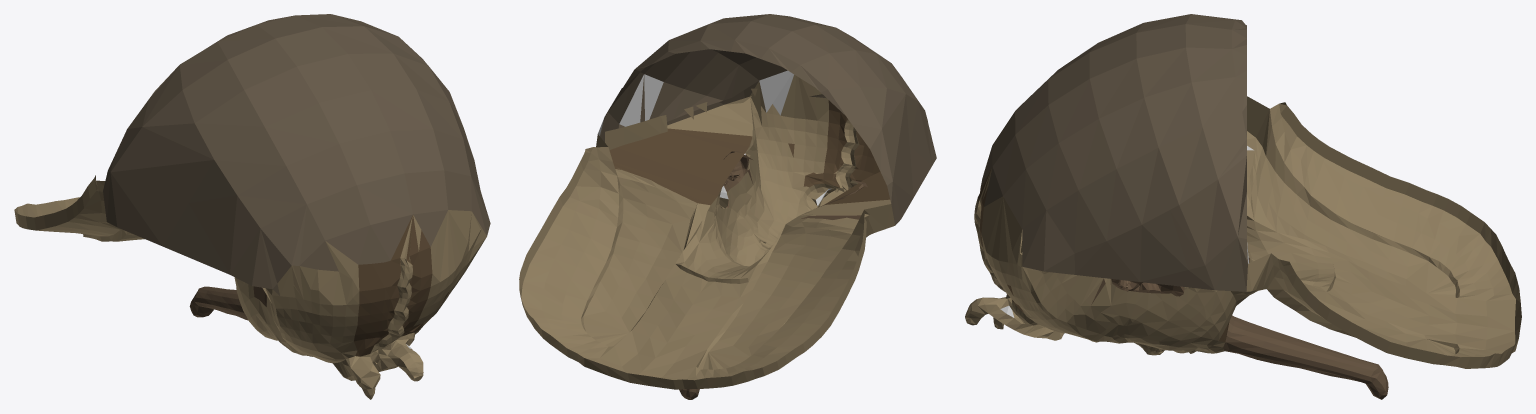
The model's file is tut.glb.
3 renders of one model, left to right at view 1: azimuth 30°, elevation 25°; view 2: azimuth 150°, elevation 25°; view 3: azimuth 270°, elevation 25°, orthographic. The views are drawn at different scales.
Visible parts, largest first — view 1: Mesh_4052, Mesh_4100, Mesh_4054, Mesh_4075, Mesh_4077, Mesh_3958, Mesh_3834, Mesh_3944, Mesh_3853, Mesh_3798, Mesh_3785, Mesh_3904 (+57 smaller); view 2: Mesh_3560, Mesh_3582, Mesh_3545, Mesh_4052, Mesh_3528, Mesh_3557, Mesh_3505, Mesh_3949, Mesh_3576, Mesh_5250, Mesh_4075, Mesh_3549 (+32 smaller); view 3: Mesh_3952, Mesh_3979, Mesh_3815, Mesh_3988, Mesh_3847, Mesh_3881, Mesh_3831, Mesh_3791, Mesh_3880, Mesh_3918, Mesh_3852, Mesh_4072 (+43 smaller).
Boxes of the visible parts, bbox=[...] form: Mesh_4052: bbox=[111, 127, 213, 172]; Mesh_4100: bbox=[111, 160, 213, 202]; Mesh_4054: bbox=[111, 172, 188, 246]; Mesh_4075: bbox=[189, 195, 237, 274]; Mesh_4077: bbox=[163, 203, 229, 274]; Mesh_3958: bbox=[265, 103, 338, 143]; Mesh_3834: bbox=[214, 127, 285, 165]; Mesh_3944: bbox=[286, 144, 356, 184]; Mesh_3853: bbox=[265, 127, 338, 165]; Mesh_3798: bbox=[195, 90, 264, 126]; Mesh_3785: bbox=[237, 166, 306, 204]; Mesh_3904: bbox=[195, 123, 263, 159]; Mesh_3560: bbox=[617, 132, 721, 185]; Mesh_3582: bbox=[667, 130, 744, 173]; Mesh_3545: bbox=[667, 112, 751, 136]; Mesh_4052: bbox=[882, 94, 905, 180]; Mesh_3528: bbox=[609, 148, 716, 195]; Mesh_3557: bbox=[824, 179, 890, 204]; Mesh_3505: bbox=[612, 161, 717, 205]; Mesh_3949: bbox=[828, 86, 881, 128]; Mesh_3576: bbox=[616, 147, 722, 195]; Mesh_5250: bbox=[759, 70, 792, 112]; Mesh_4075: bbox=[910, 102, 932, 165]; Mesh_3549: bbox=[666, 132, 729, 185]; Mesh_3952: bbox=[1179, 180, 1217, 264]; Mesh_3979: bbox=[1159, 127, 1202, 204]; Mesh_3815: bbox=[1116, 148, 1158, 224]; Mesh_3988: bbox=[1140, 225, 1187, 281]; Mesh_3847: bbox=[1099, 98, 1143, 168]; Mesh_3881: bbox=[1144, 82, 1191, 147]; Mesh_3831: bbox=[1142, 148, 1178, 224]; Mesh_3791: bbox=[1079, 169, 1116, 240]; Mesh_3880: bbox=[1205, 180, 1237, 264]; Mesh_3918: bbox=[1179, 128, 1217, 204]; Mesh_3852: bbox=[1117, 98, 1158, 168]; Mesh_4072: bbox=[1075, 241, 1139, 281].
Bounding box in the file's own units: 30.21 × 30.31 × 42.08.
